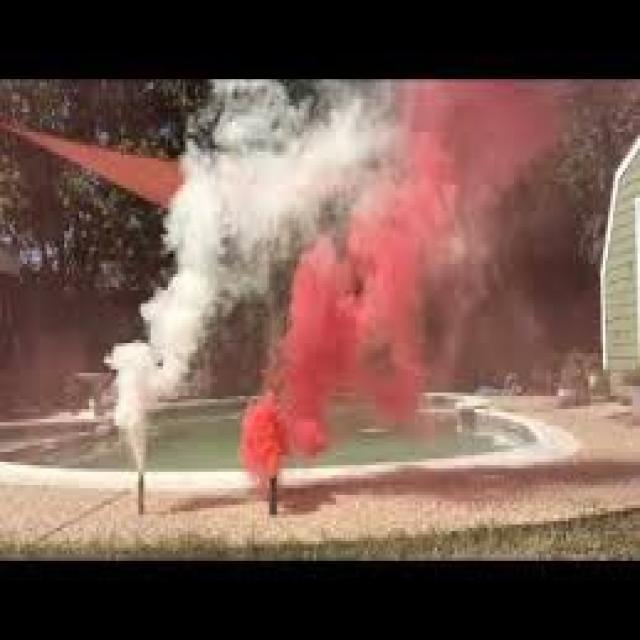Smoke: (102, 79, 555, 478)
